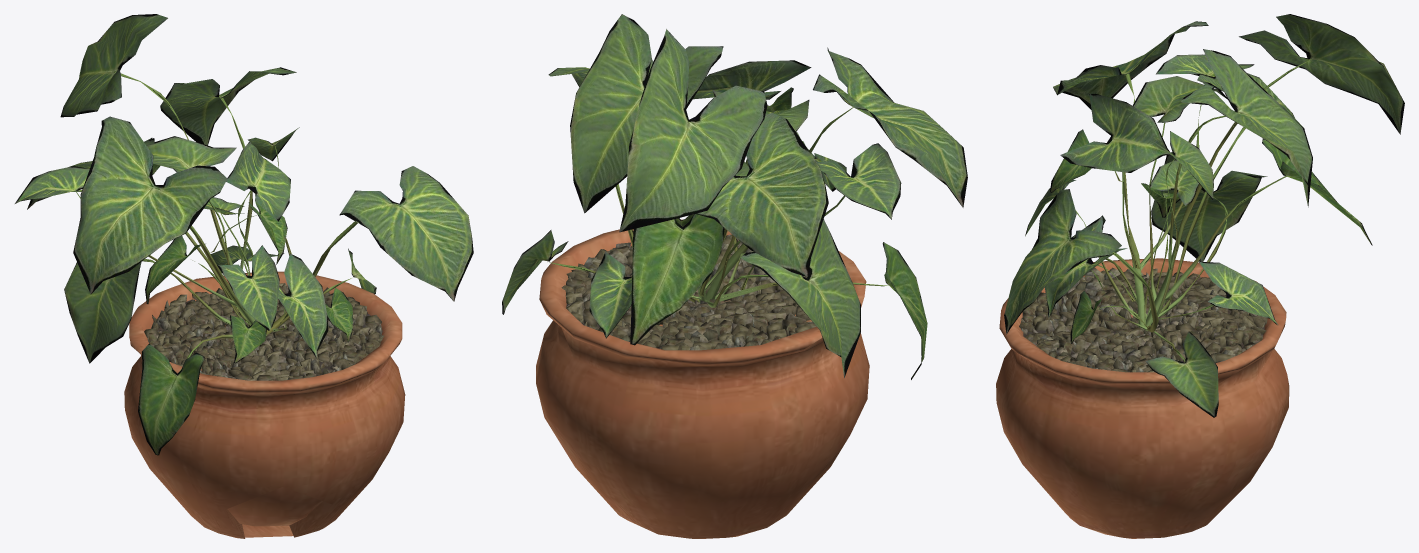
Rendered from potted_plant_02.gltf.
The picture shows the model from 3 angles, left to right: view 1: azimuth 30°, elevation 25°; view 2: azimuth 150°, elevation 25°; view 3: azimuth 270°, elevation 25°; orthographic projection. The views are drawn at different scales.
Visible parts, largest first — view 1: potted_plant_02_leaves, potted_plant_02_pot, potted_plant_02_dirt; view 2: potted_plant_02_leaves, potted_plant_02_pot, potted_plant_02_dirt; view 3: potted_plant_02_leaves, potted_plant_02_pot, potted_plant_02_dirt.
Boxes of the visible parts, <box> form: potted_plant_02_leaves: <box>15,14,473,455</box>; potted_plant_02_pot: <box>124,271,405,538</box>; potted_plant_02_dirt: <box>144,283,383,380</box>; potted_plant_02_leaves: <box>502,14,967,379</box>; potted_plant_02_pot: <box>536,219,869,538</box>; potted_plant_02_dirt: <box>561,234,816,350</box>; potted_plant_02_leaves: <box>1004,14,1404,417</box>; potted_plant_02_pot: <box>996,258,1289,538</box>; potted_plant_02_dirt: <box>1019,267,1267,372</box>.
Size of the model in its own units: 0.7009 by 0.8378 by 0.6561.
Materials: 2 (2 with a texture image).
